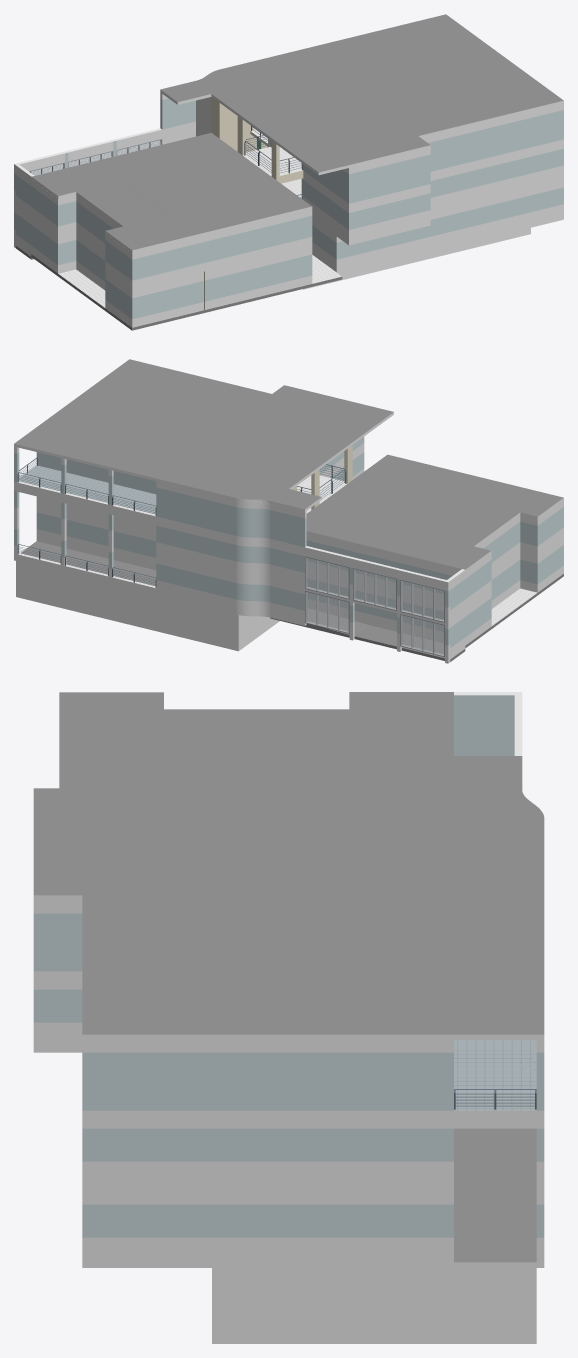
The model's file is dici.glb.
3 renders of one model, top to bottom at view 1: azimuth 30°, elevation 25°; view 2: azimuth 150°, elevation 25°; view 3: azimuth 270°, elevation 25°, orthographic. The views are drawn at different scales.
Visible parts, largest first — view 1: Cubo.118, Cubo.030, Cubo.025, Cubo.126, Cubo.032, Cubo.066, Techo, Cubo.022, Cubo.038, Cubo.046, Cubo.037, Cubo.089 (+46 smaller); view 2: Cubo.138, Cubo.145, Cubo.118, Cubo.126, Cubo.030, Cubo.025, Techo, Cubo.016, Muro_Curvo, Cubo.142, Cubo.038, Cubo.141 (+57 smaller); view 3: Cubo.118, Cubo.030, Cubo.025, Cubo.126, Cubo.148, Cubo.033, Cubo.028, Cubo.038, Cubo.023, Cubo.067, Cubo.017, Cubo.013 (+23 smaller).
Part boxes in pixels (left/top/right/bottom): Cubo.118: left=211, top=67, right=379, bottom=140; Cubo.030: left=372, top=67, right=557, bottom=134; Cubo.025: left=326, top=33, right=511, bottom=100; Cubo.126: left=194, top=14, right=468, bottom=93; Cubo.032: left=417, top=100, right=560, bottom=171; Cubo.066: left=418, top=179, right=560, bottom=252; Techo: left=122, top=152, right=284, bottom=214; Cubo.022: left=430, top=140, right=560, bottom=210; Cubo.038: left=302, top=111, right=427, bottom=167; Cubo.046: left=352, top=187, right=427, bottom=241; Cubo.037: left=352, top=149, right=427, bottom=202; Cubo.089: left=135, top=235, right=207, bottom=288; Cubo.138: left=156, top=481, right=236, bottom=614; Cubo.145: left=16, top=561, right=240, bottom=648; Cubo.118: left=183, top=420, right=347, bottom=489; Cubo.126: left=14, top=427, right=288, bottom=503; Cubo.030: left=88, top=361, right=269, bottom=427; Cubo.025: left=42, top=395, right=224, bottom=460; Techo: left=315, top=474, right=474, bottom=535; Cubo.016: left=40, top=504, right=156, bottom=570; Muro_Curvo: left=236, top=501, right=271, bottom=617; Cubo.142: left=272, top=504, right=306, bottom=625; Cubo.038: left=241, top=386, right=363, bottom=438; Cubo.141: left=19, top=465, right=156, bottom=513; Cubo.118: left=218, top=788, right=453, bottom=892; Cubo.030: left=89, top=895, right=264, bottom=1031; Cubo.025: left=272, top=895, right=446, bottom=1031; Cubo.126: left=454, top=788, right=544, bottom=1039; Cubo.148: left=219, top=1268, right=529, bottom=1338; Cubo.033: left=82, top=1031, right=264, bottom=1110; Cubo.028: left=272, top=1031, right=453, bottom=1110; Cubo.038: left=33, top=817, right=218, bottom=892; Cubo.023: left=82, top=1110, right=264, bottom=1186; Cubo.067: left=82, top=1186, right=264, bottom=1262; Cubo.017: left=272, top=1186, right=453, bottom=1262; Cubo.013: left=272, top=1110, right=453, bottom=1186.
Bounding box in the file's own units: 32.62 × 11.24 × 16.82.
64 materials, 8 textured.
